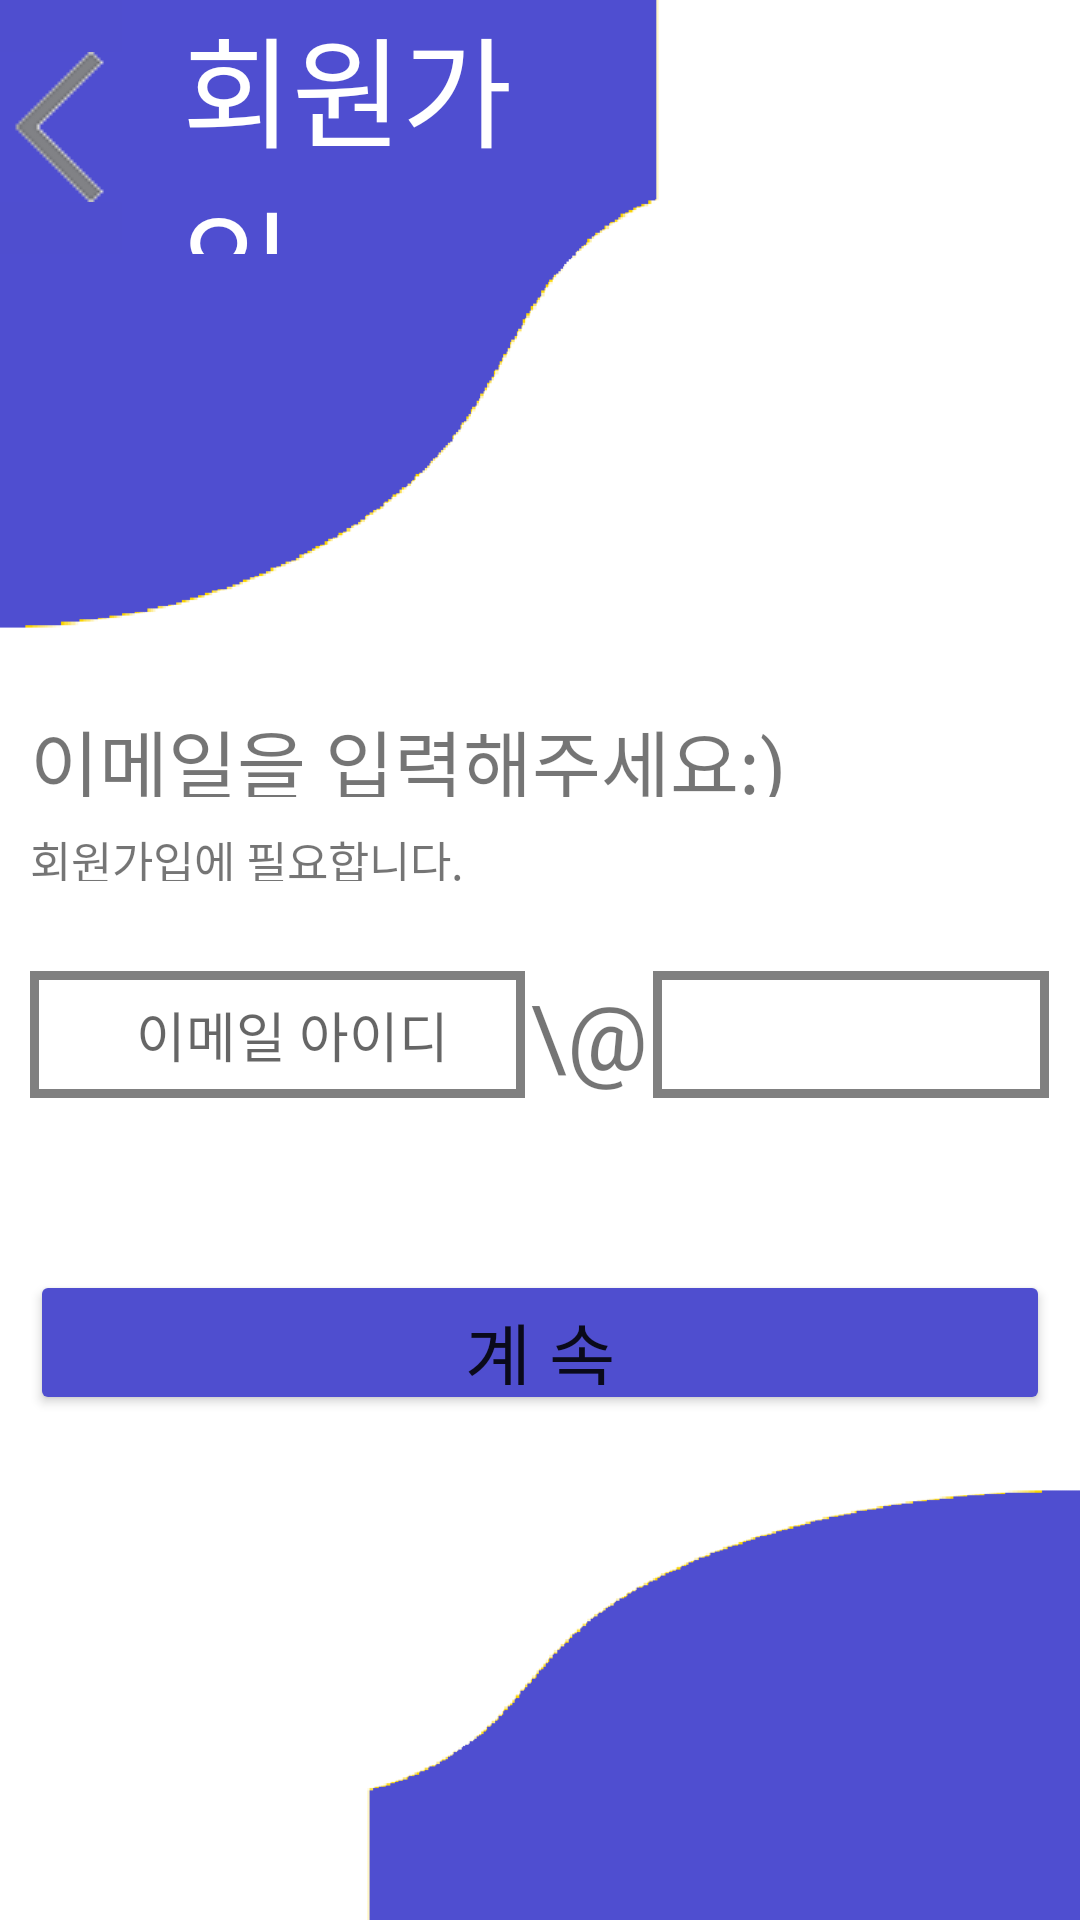

Icons on this 1080px×1920px Android screen, each with the point to tap as (x=x, y=y):
back space: (x=59, y=127)
